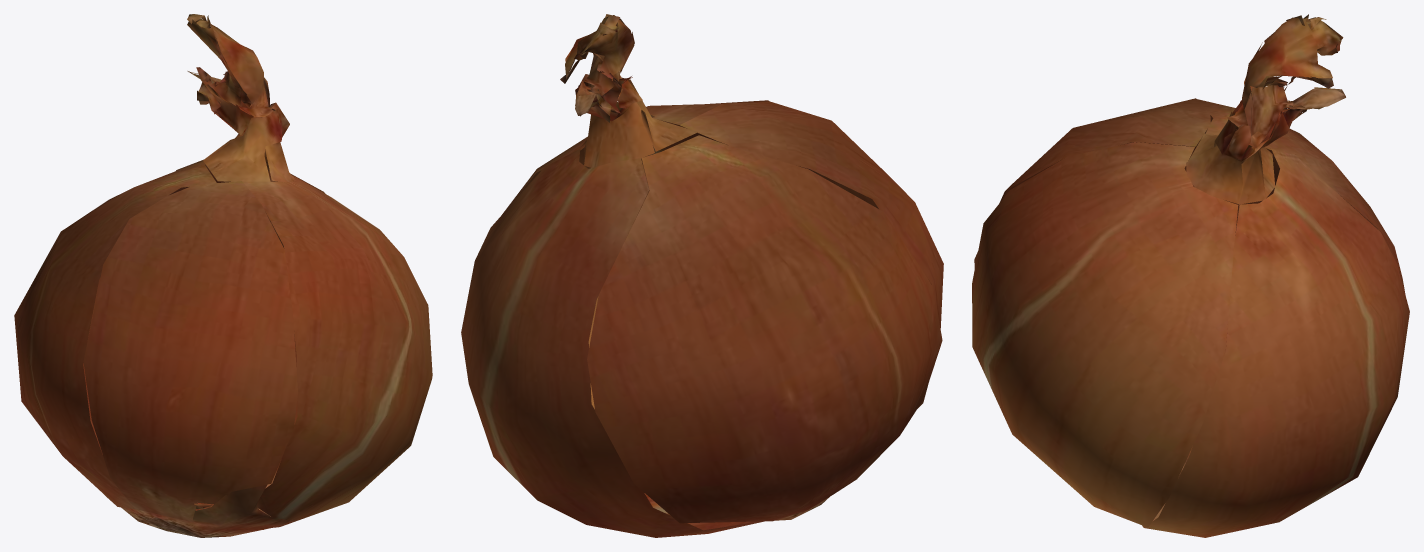
File: ph_yellow_onion.glb
The picture shows the model from 3 angles, left to right: view 1: azimuth 30°, elevation 25°; view 2: azimuth 150°, elevation 25°; view 3: azimuth 270°, elevation 25°; orthographic projection. The views are drawn at different scales.
Visible parts, largest first — view 1: yellow_onion; view 2: yellow_onion; view 3: yellow_onion.
Part boxes in pixels (box(x1,y1,x2,y2)): yellow_onion: box(14, 14, 432, 537); yellow_onion: box(461, 14, 943, 537); yellow_onion: box(972, 14, 1409, 537).
Size of the model in its own units: 0.0737 by 0.0866 by 0.0692.
Materials: 1 (1 with a texture image).
